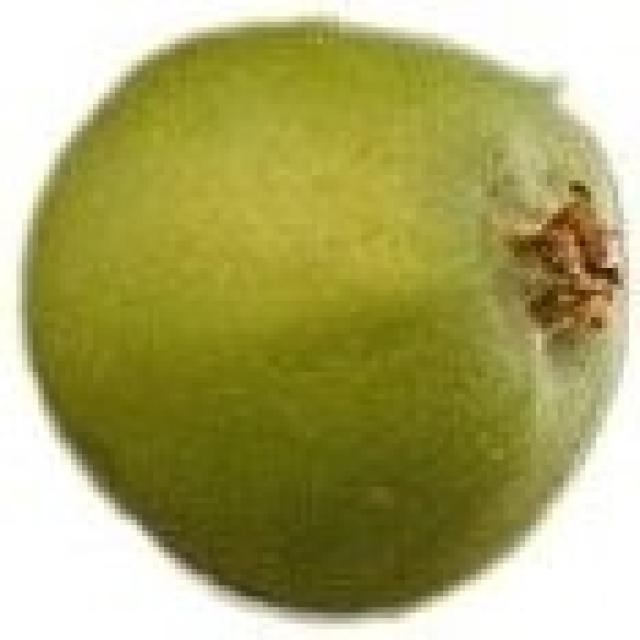50-_ripeness: (21, 21, 621, 622)
